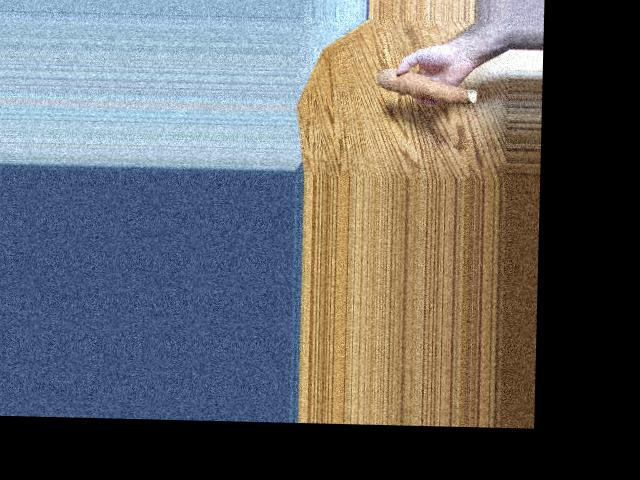sweet_potato: (369, 72, 474, 104)
